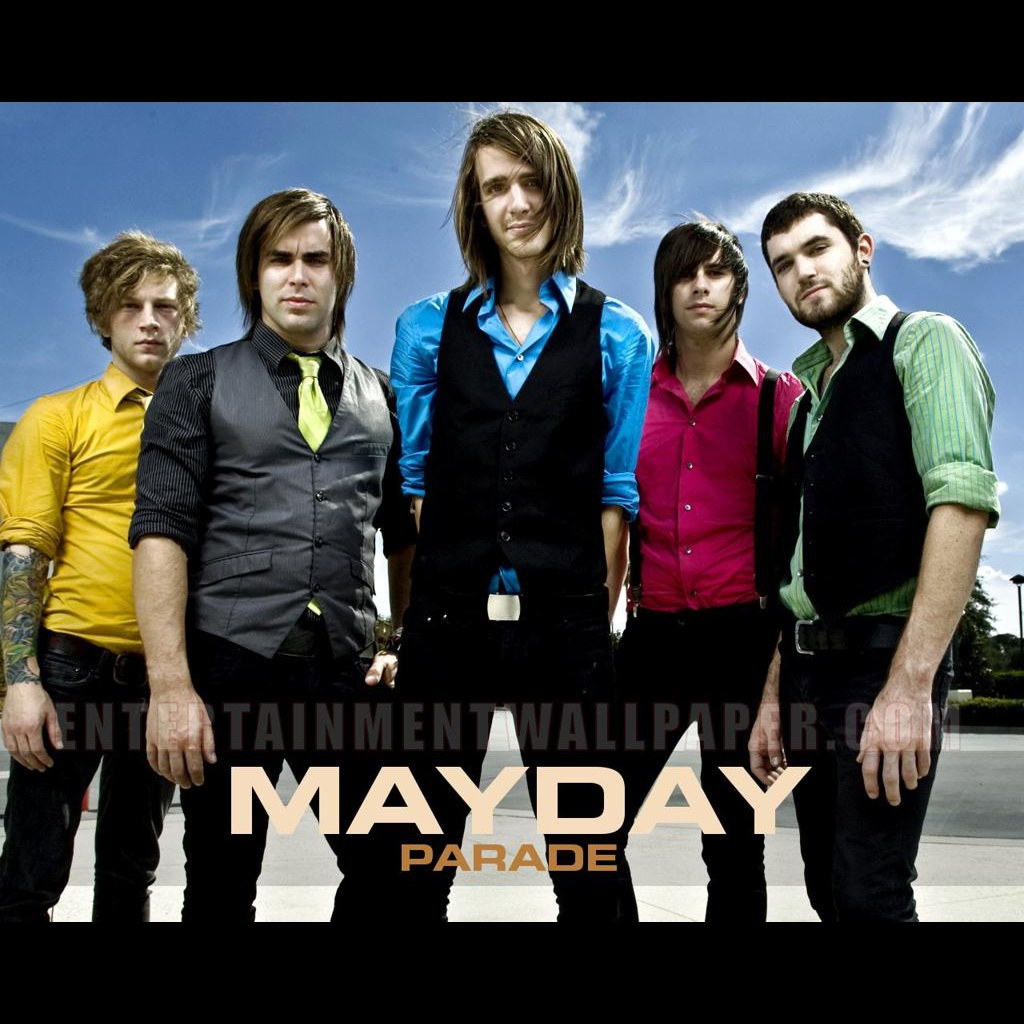face: (764, 214, 856, 324), (254, 220, 338, 332), (472, 144, 556, 256), (114, 264, 184, 370), (666, 238, 736, 334)
